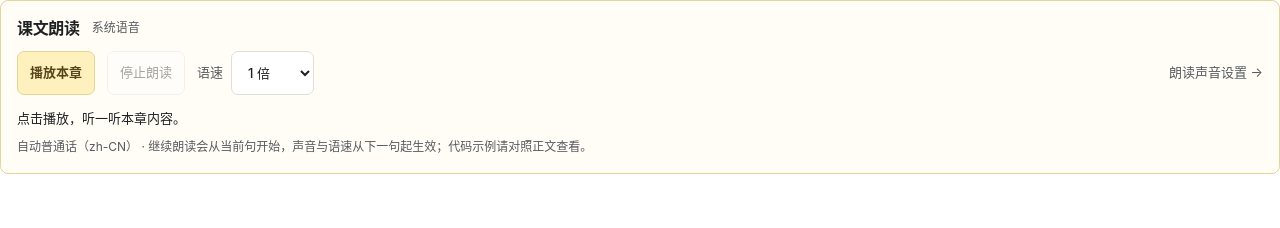
it: chapter narration playback › provides accessible playback controls and a useful empty-text error
Select "0.8 倍" in the dropdown named "课文朗读语速" at (272, 73), box [231,51,314,95]
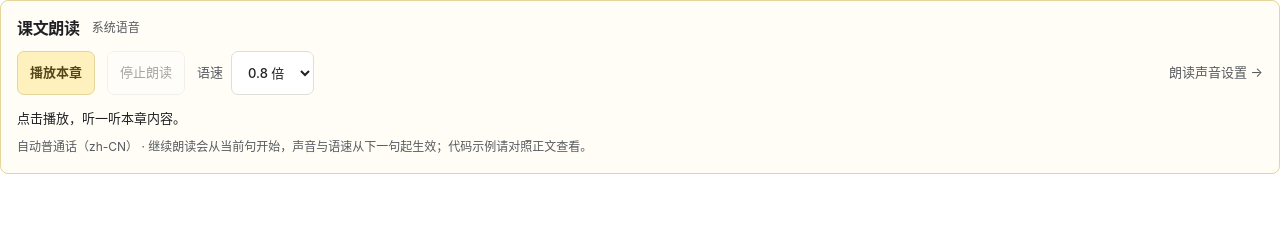
Click the button "播放本章" at (56, 73), box [17,51,95,95]
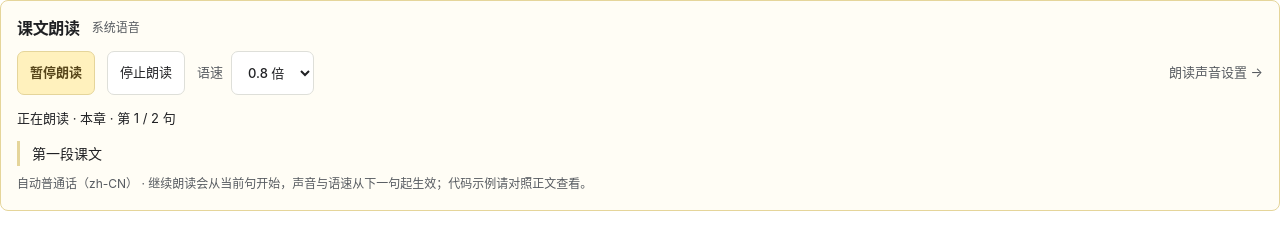
Result: the message shows "第 1 / 2 句" at [69,110,176,126]
Click the button "暂停朗读" at (56, 73), box [17,51,95,95]
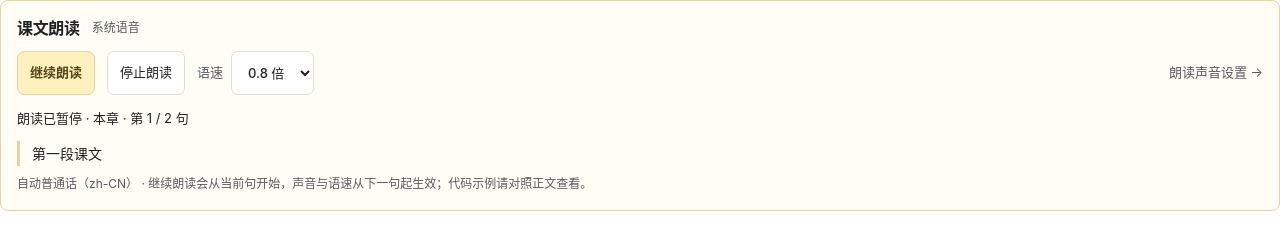
Result: the button "继续朗读" is shown at [17,51,95,95]
Click the button "停止朗读" at (146, 73), box [107,51,185,95]
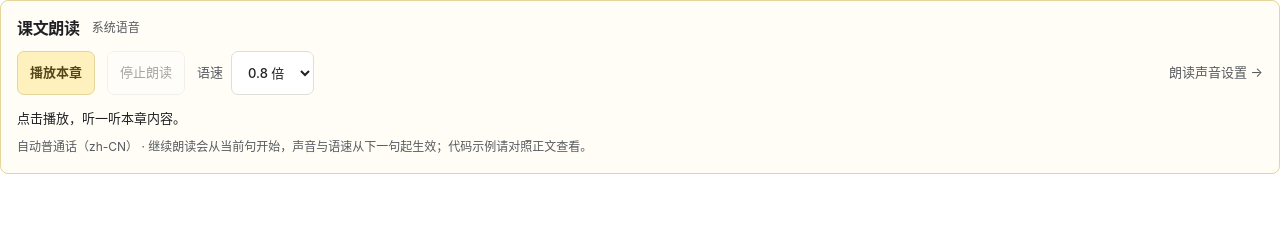
Result: the message shows "点击播放" at [17,110,186,126]
